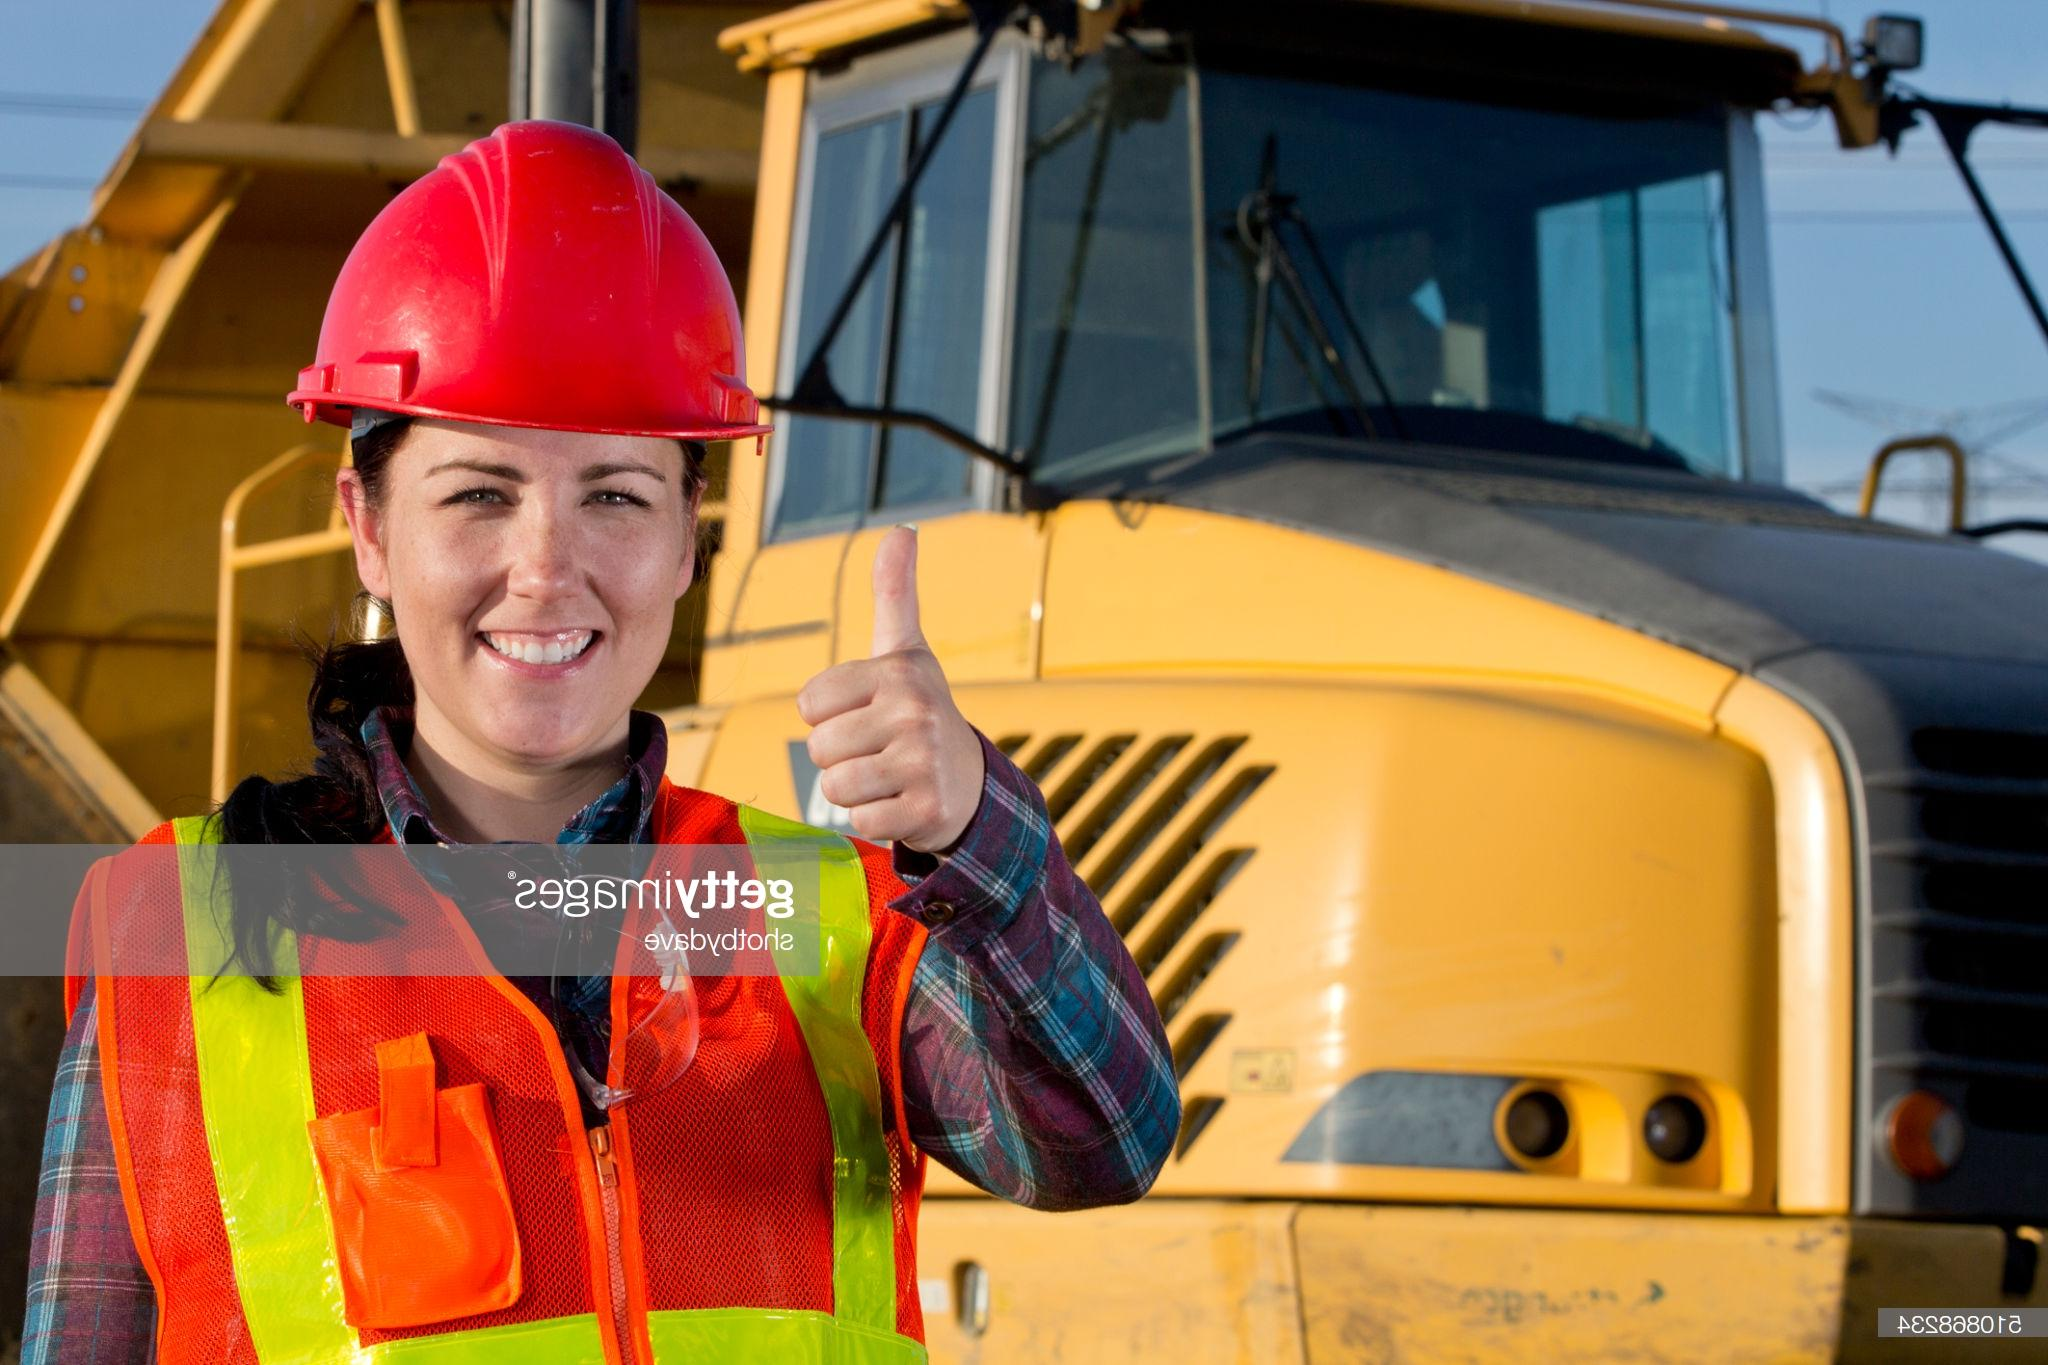thumbsup: (796, 521, 956, 838)
